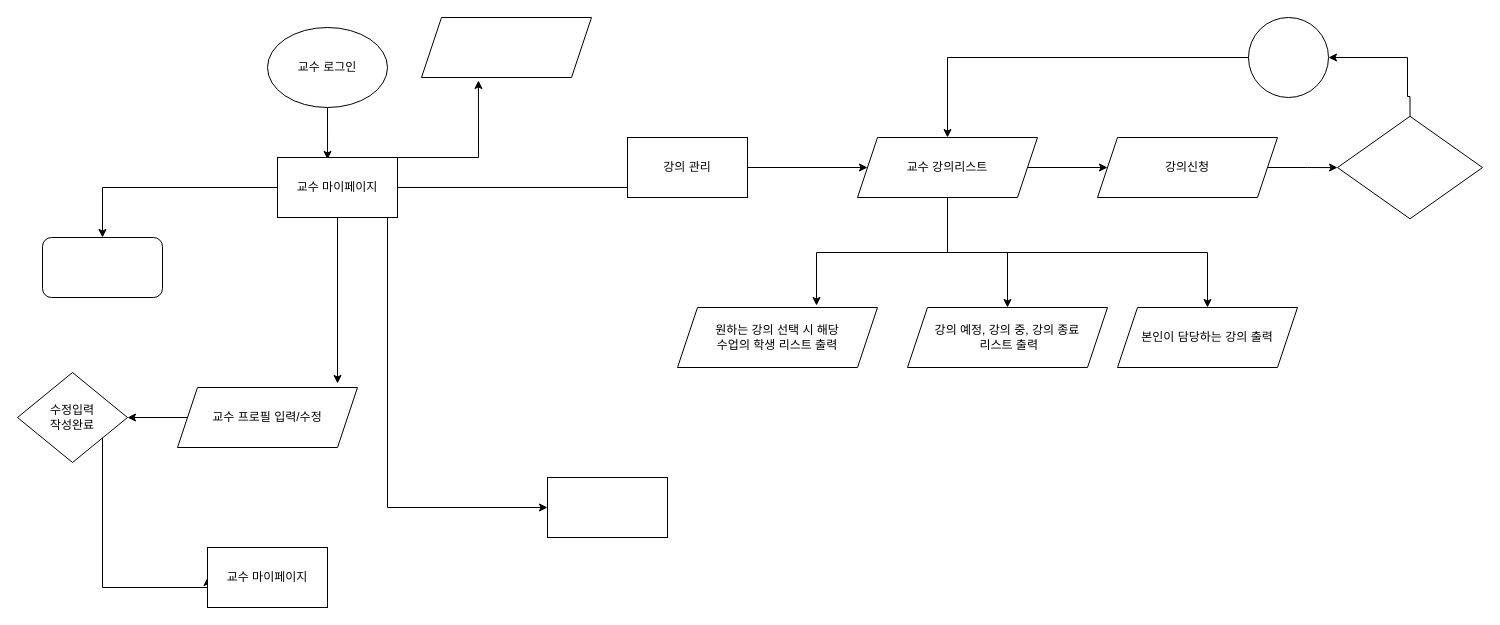
The diagram is 1500 pixels wide and 625 high, and some of its shapes have lost their labels. Here are the shapes that lost their labels. From the top down, the box of each, then its label:
(420, 16, 592, 78): 상세보기 클릭시 전체 프로필 정보출력
(1248, 16, 1328, 98): 신청완료
(1336, 115, 1482, 219): 교수 강의 신청 내용작성
(42, 236, 162, 298): 공지사항
(546, 476, 668, 538): 성적관리
